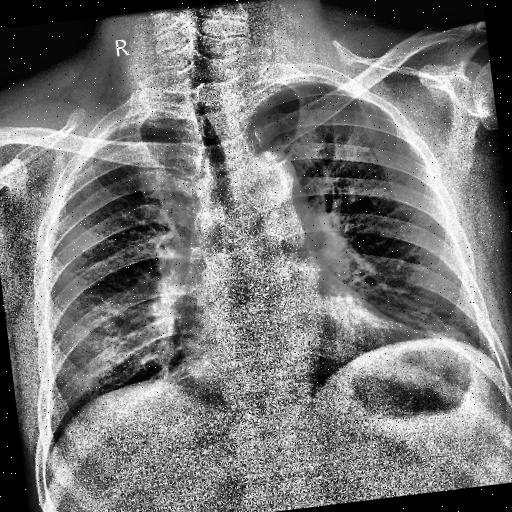0- Aortic enlargement: (240, 148, 312, 227), (226, 148, 305, 218), (250, 146, 300, 207)
11- Pleural thickening: (90, 109, 170, 136)
3- Cardiomegaly: (178, 297, 418, 389), (173, 315, 431, 392)
